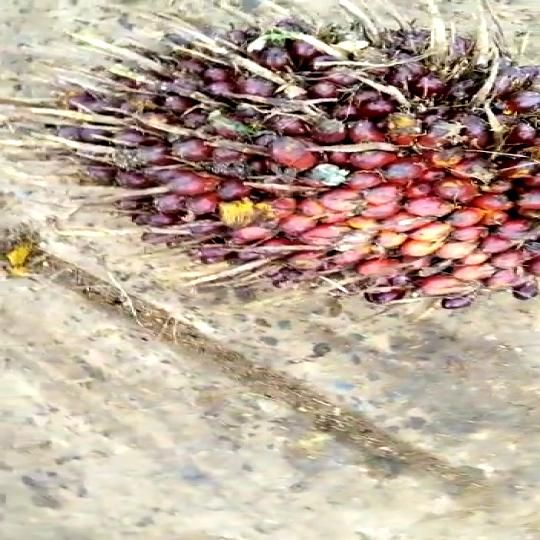masak: (54, 0, 540, 315)
